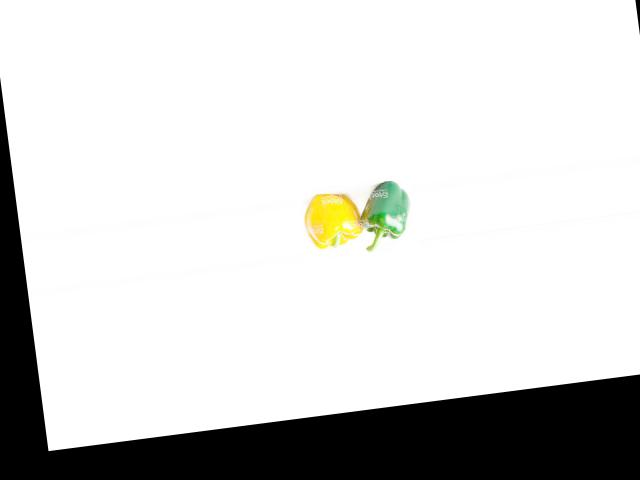bell_pepper: (355, 170, 419, 246)
